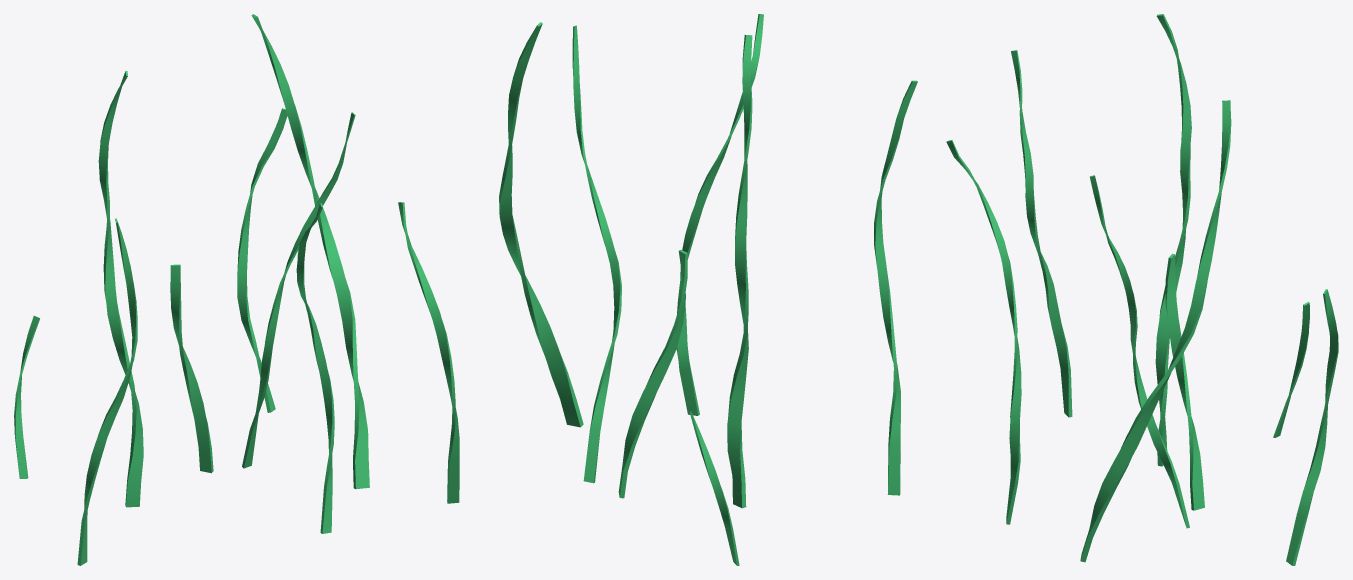
File: coral_seaweed_A_mini.fbx
3 renders of one model, left to right at view 1: azimuth 30°, elevation 25°; view 2: azimuth 150°, elevation 25°; view 3: azimuth 270°, elevation 25°, orthographic. The views are drawn at different scales.
Visible parts, largest first — view 1: coral_seaweed_A_mini; view 2: coral_seaweed_A_mini; view 3: coral_seaweed_A_mini.
Boxes of the visible parts, <box> form: coral_seaweed_A_mini: <box>14,14,369,565</box>; coral_seaweed_A_mini: <box>398,14,917,565</box>; coral_seaweed_A_mini: <box>946,14,1338,565</box>.
Size of the model in its own units: 244 by 302 by 240.
